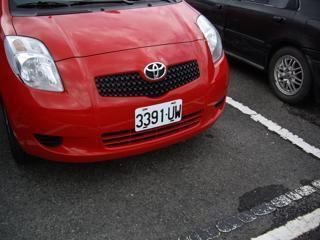plate: (132, 98, 183, 131)
